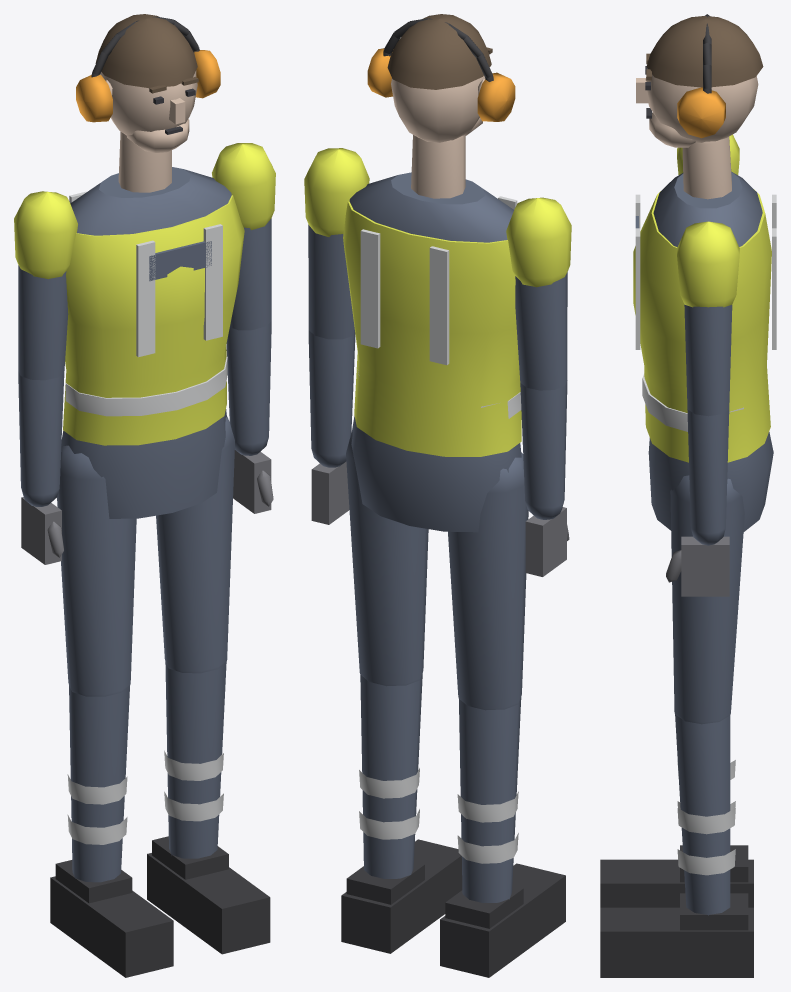
File: GroundCrew.glb
The picture shows the model from 3 angles, left to right: view 1: azimuth 30°, elevation 25°; view 2: azimuth 150°, elevation 25°; view 3: azimuth 270°, elevation 25°; orthographic projection. The views are drawn at different scales.
Parts seen in each view (by area): view 1: Spine, UpperLeg_R, Head, UpperLeg_L, LowerLeg_L, LowerLeg_R, UpperArm_R, Hips, Foot_R, Foot_L, UpperArm_L, LowerArm_R (+4 smaller); view 2: Spine, UpperLeg_R, Head, UpperLeg_L, LowerLeg_L, LowerLeg_R, Hips, UpperArm_R, Foot_R, Foot_L, UpperArm_L, LowerArm_R (+4 smaller); view 3: Spine, Head, Foot_L, UpperLeg_L, LowerLeg_L, UpperArm_L, Foot_R, LowerArm_L, Hips, Hand_L, Neck, UpperArm_R.
Boxes of the visible parts, x1,y1,x2,y2 form: Spine: [63, 167, 244, 445]; UpperLeg_R: [57, 445, 136, 696]; Head: [76, 14, 220, 152]; UpperLeg_L: [156, 416, 234, 673]; LowerLeg_L: [164, 661, 226, 858]; LowerLeg_R: [67, 685, 129, 882]; UpperArm_R: [14, 191, 77, 380]; Hips: [61, 409, 226, 518]; Foot_R: [50, 860, 173, 977]; Foot_L: [147, 836, 270, 954]; UpperArm_L: [212, 143, 275, 330]; LowerArm_R: [18, 371, 64, 506]; Spine: [343, 172, 521, 456]; UpperLeg_R: [448, 452, 528, 710]; Head: [367, 14, 515, 142]; UpperLeg_L: [346, 432, 428, 686]; LowerLeg_L: [359, 673, 422, 878]; LowerLeg_R: [457, 697, 521, 902]; Hips: [351, 416, 521, 532]; UpperArm_R: [506, 197, 571, 390]; Foot_R: [440, 863, 565, 977]; Foot_L: [341, 839, 462, 953]; UpperArm_L: [304, 148, 369, 339]; LowerArm_R: [520, 381, 567, 519]; Spine: [633, 171, 776, 462]; Head: [636, 14, 763, 147]; Foot_L: [600, 893, 753, 977]; UpperLeg_L: [670, 475, 744, 724]; LowerLeg_L: [675, 714, 735, 915]; UpperArm_L: [677, 221, 739, 416]; Foot_R: [600, 845, 753, 907]; LowerArm_L: [687, 409, 729, 545]; Hips: [648, 432, 773, 531]; Hand_L: [666, 536, 729, 596]; Neck: [682, 137, 731, 199]; UpperArm_R: [677, 134, 739, 174].
Bounding box in the file's own units: 0.5311 × 1.81 × 0.3131.
